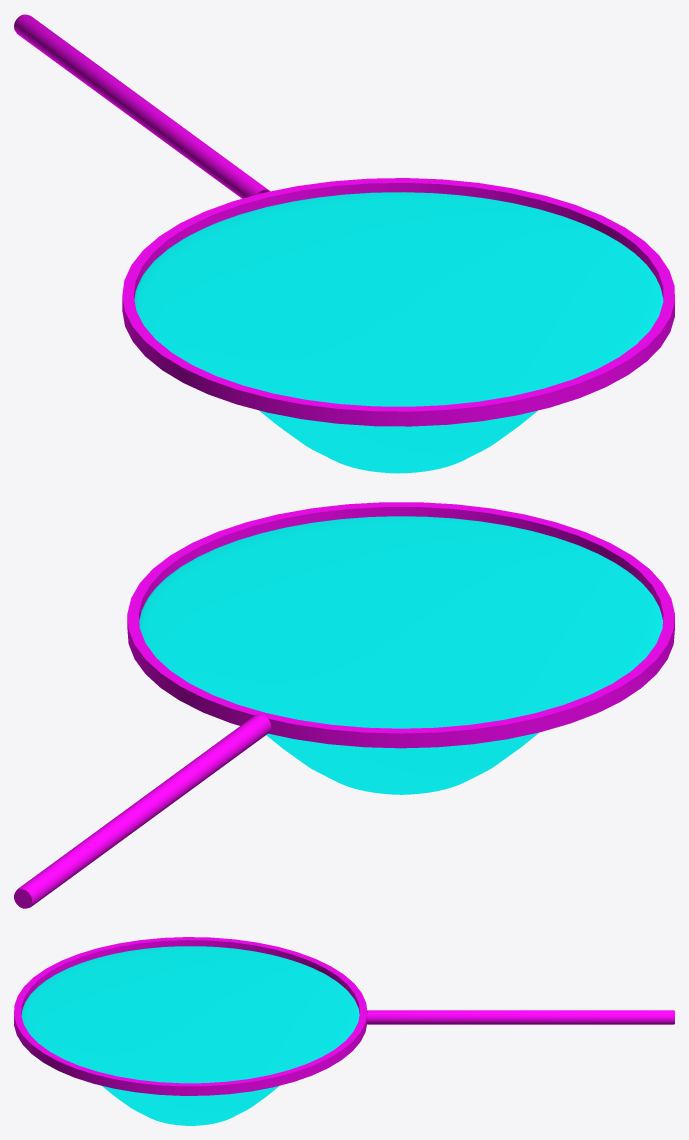
Rendered from poi.fbx.
3 renders of one model, top to bottom at view 1: azimuth 30°, elevation 25°; view 2: azimuth 150°, elevation 25°; view 3: azimuth 270°, elevation 25°, orthographic. The views are drawn at different scales.
Visible parts, largest first — view 1: polySurface3, polySurface1, polySurface2; view 2: polySurface3, polySurface1, polySurface2; view 3: polySurface3, polySurface1, polySurface2.
Boxes of the visible parts, box(x1,y1,x2,y2) form: polySurface3: box(134, 192, 663, 473); polySurface1: box(122, 178, 674, 426); polySurface2: box(14, 14, 270, 198); polySurface3: box(139, 516, 662, 794); polySurface1: box(127, 502, 674, 748); polySurface2: box(14, 714, 271, 908); polySurface3: box(21, 946, 359, 1125); polySurface1: box(14, 937, 367, 1095); polySurface2: box(367, 1010, 674, 1024).
Bounding box in the file's own units: 39.81 × 12.85 × 74.43.
